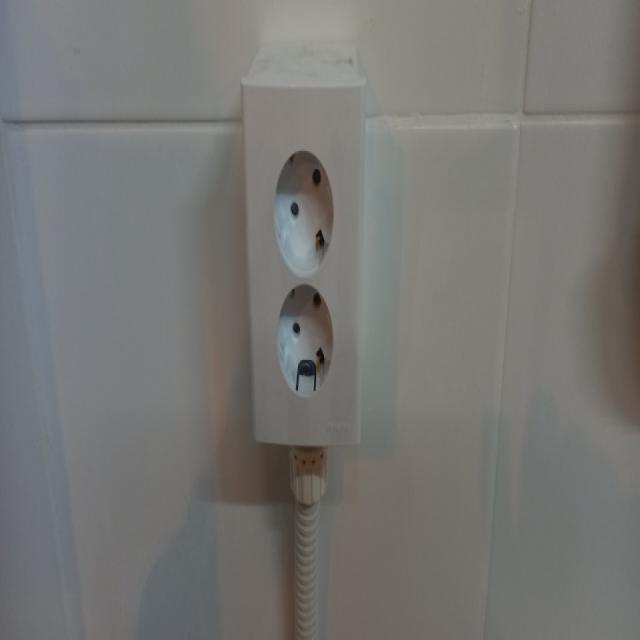typeb: (222, 42, 382, 468)
